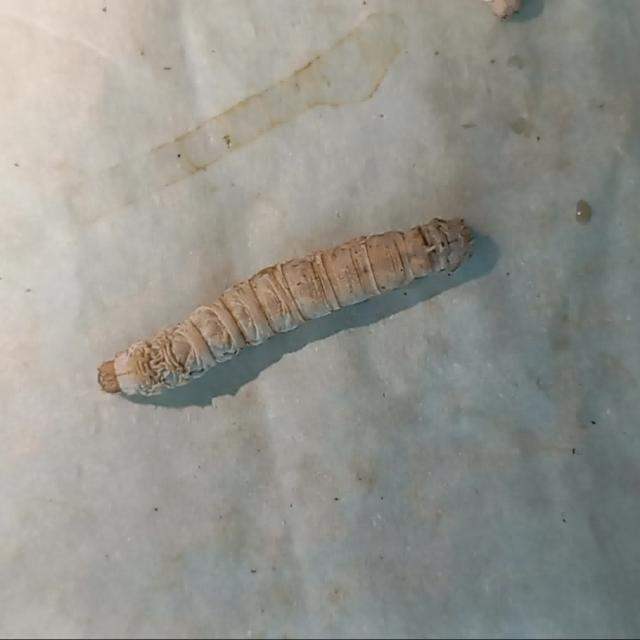Grasserie: (79, 204, 504, 415)
